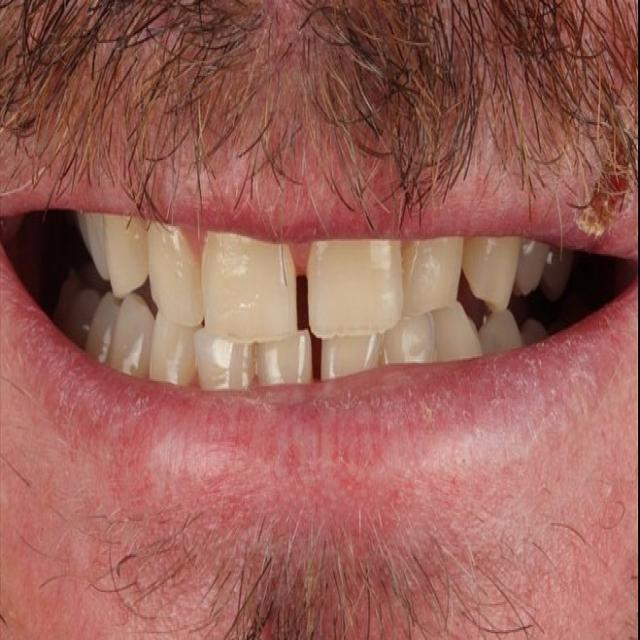tooth: (188, 234, 301, 348), (301, 246, 406, 341), (402, 234, 463, 312), (312, 325, 379, 393), (150, 224, 198, 317), (463, 236, 522, 310), (367, 314, 440, 371), (109, 292, 159, 368), (194, 325, 246, 396), (422, 307, 484, 364), (253, 330, 320, 381), (108, 218, 150, 295), (154, 317, 193, 394), (486, 317, 518, 353)
